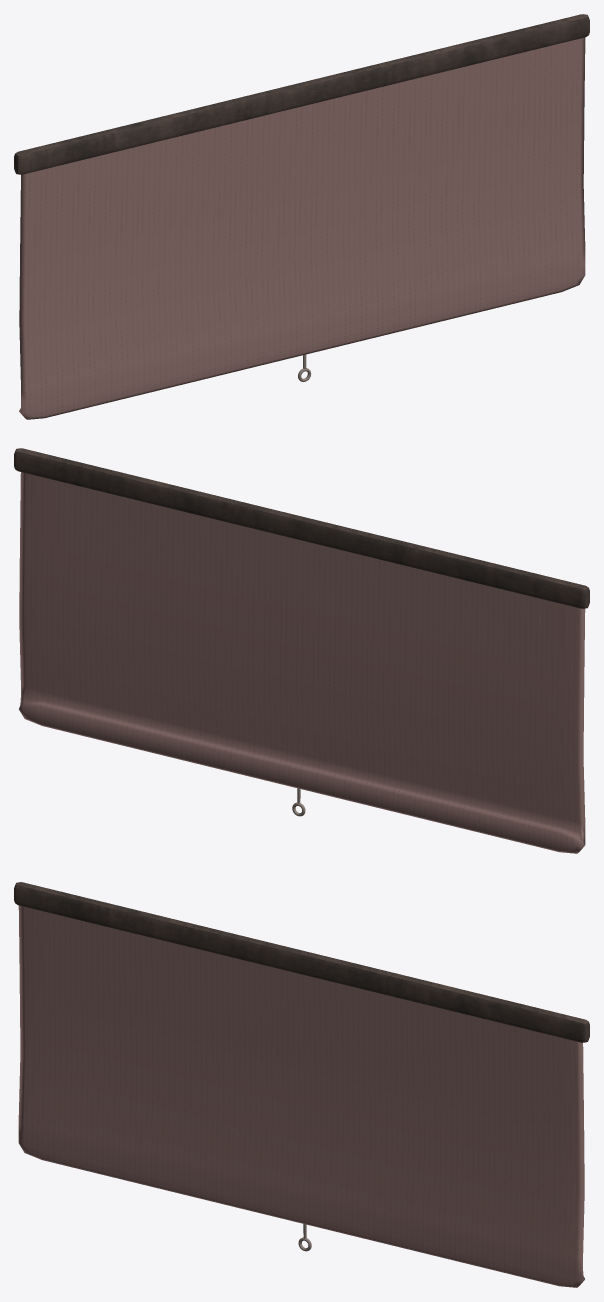
Rendered from curtain textured.fbx.
3 renders of one model, top to bottom at view 1: azimuth 30°, elevation 25°; view 2: azimuth 150°, elevation 25°; view 3: azimuth 330°, elevation 25°, orthographic.
Parts seen in each view (by area): view 1: curtain, curtain_base; view 2: curtain, curtain_base; view 3: curtain, curtain_base.
Part boxes in pixels (x1=…): curtain: x1=19, y1=37, x2=585, y2=419; curtain_base: x1=14, y1=14, x2=589, y2=174; curtain: x1=19, y1=472, x2=585, y2=853; curtain_base: x1=14, y1=448, x2=589, y2=608; curtain: x1=18, y1=905, x2=584, y2=1287; curtain_base: x1=14, y1=882, x2=589, y2=1042.
Size of the model in its own units: 36.61 by 18.24 by 0.6914.
Materials: 3 (2 with a texture image).
